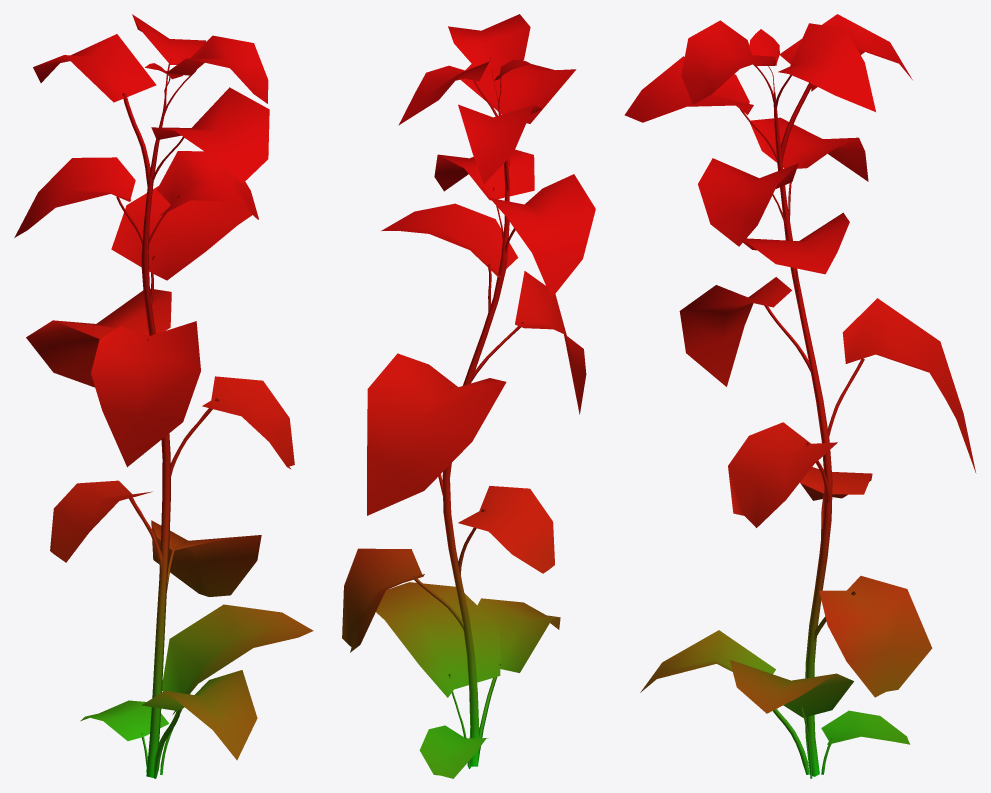
The model's file is Money Plant_LOD1_Var1_uchmfdyia.fbx.
The picture shows the model from 3 angles, left to right: view 1: azimuth 30°, elevation 25°; view 2: azimuth 150°, elevation 25°; view 3: azimuth 270°, elevation 25°; orthographic projection. The views are drawn at different scales.
Parts seen in each view (by area): view 1: _ffc1_Var1_LOD1; view 2: _ffc1_Var1_LOD1; view 3: _ffc1_Var1_LOD1.
Part boxes in pixels (bbox=[...]): _ffc1_Var1_LOD1: bbox=[14, 14, 313, 778]; _ffc1_Var1_LOD1: bbox=[342, 14, 595, 778]; _ffc1_Var1_LOD1: bbox=[624, 14, 976, 778].
Size of the model in its own units: 18.8 by 52.52 by 22.39.
